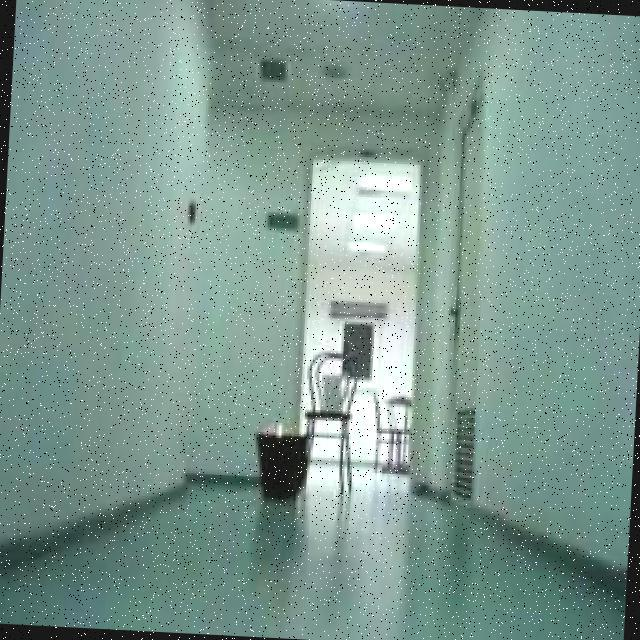Fire: (268, 420, 283, 438)
